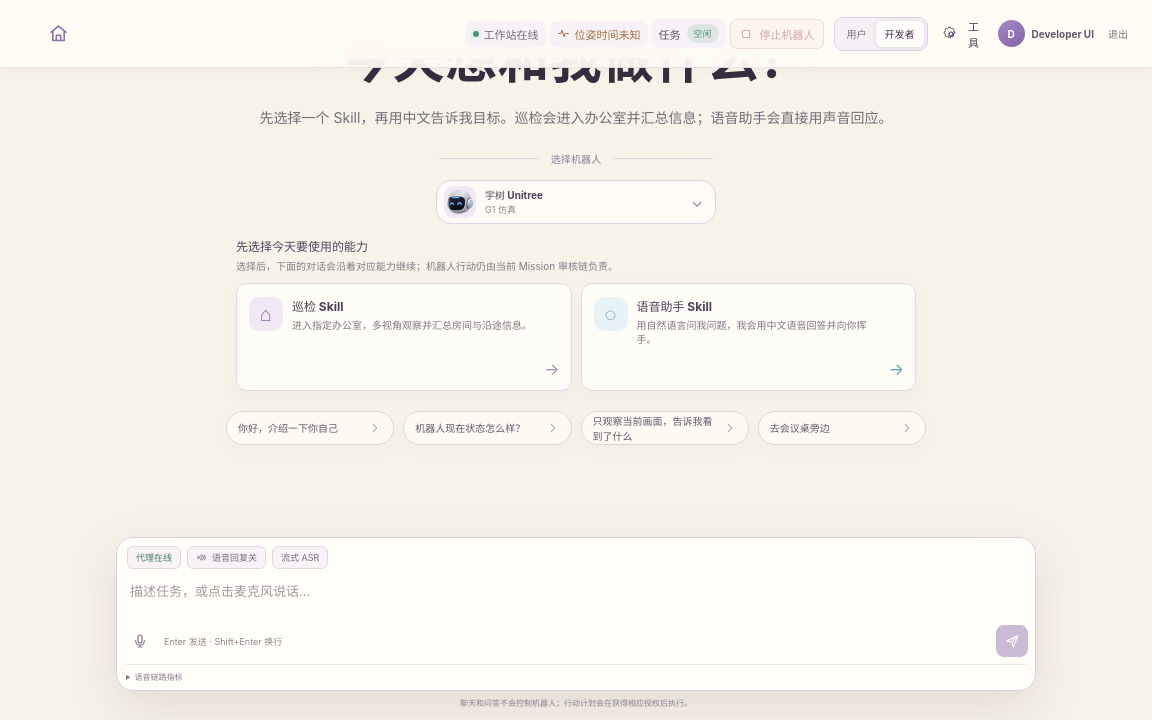
Test: control console › answers social chat through ConversationGateway without creating a plan
The width and height of the screenshot is (1152, 720).
(page scrolled)
Type "你好" into the text box named "任务描述" at (576, 595), box [117,569,1035,621]
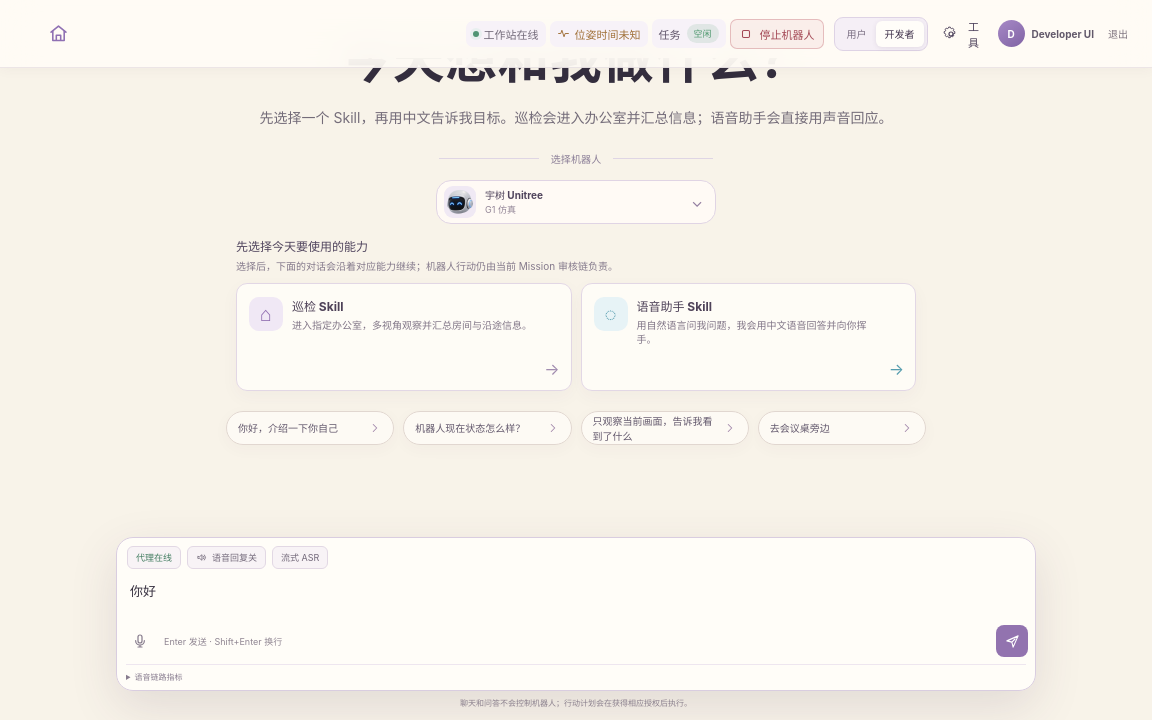
Click the button named "发送给 H-IDE" at (1012, 641), box [996,625,1028,657]
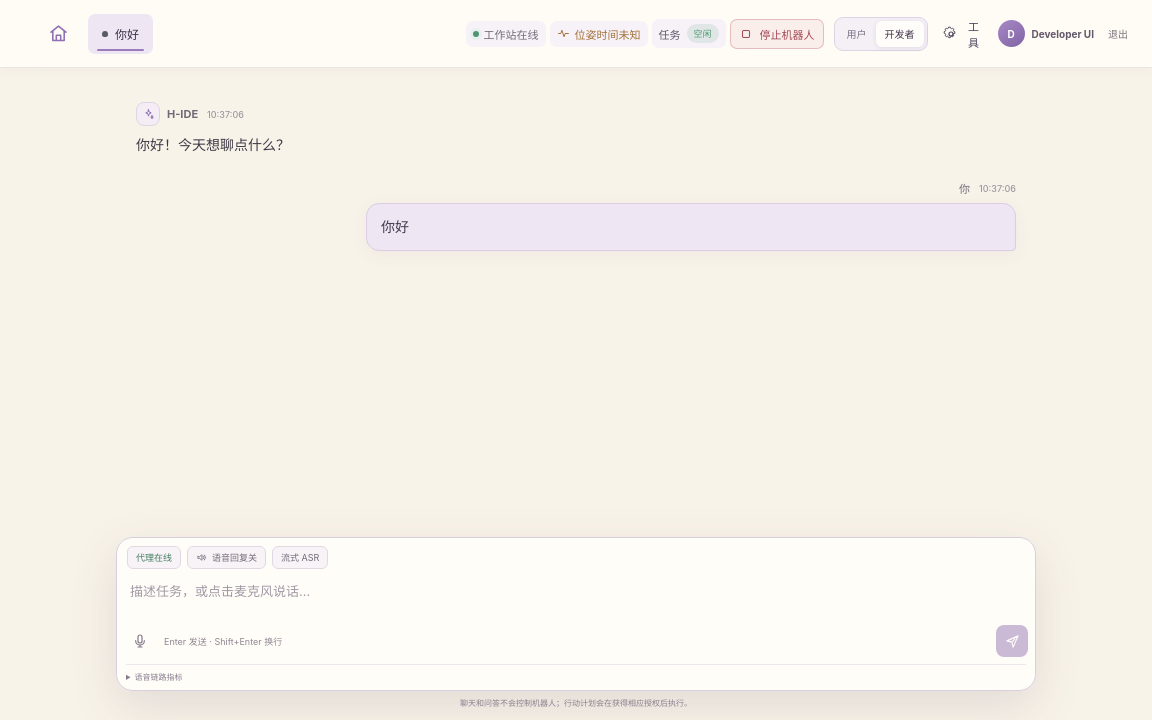
Expected: the text "你好！今天想聊点什么？" is shown, [136,136,290,153]
